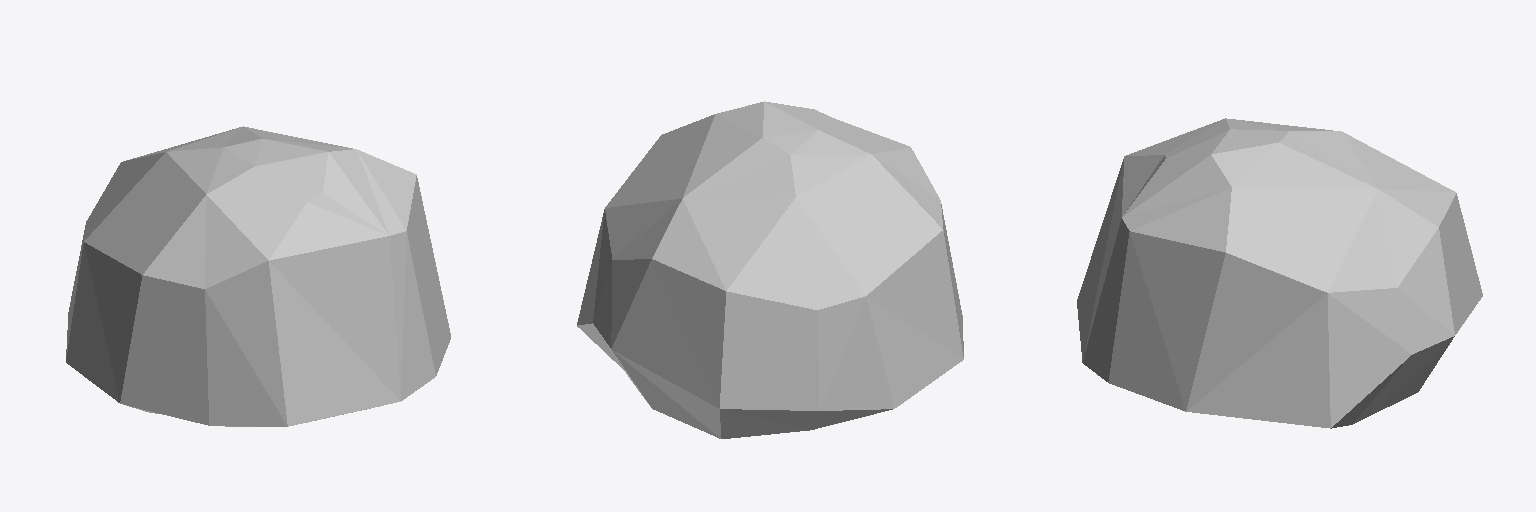
Rendered from Stone_medium_002.obj.
The picture shows the model from 3 angles: view 1: azimuth 30°, elevation 25°; view 2: azimuth 150°, elevation 25°; view 3: azimuth 270°, elevation 25°; orthographic projection.
Parts seen in each view (by area): view 1: Stone_medium_002_Icosphere; view 2: Stone_medium_002_Icosphere; view 3: Stone_medium_002_Icosphere.
Part boxes in pixels (bbox=[...]): Stone_medium_002_Icosphere: bbox=[66, 126, 450, 426]; Stone_medium_002_Icosphere: bbox=[577, 101, 963, 438]; Stone_medium_002_Icosphere: bbox=[1077, 118, 1482, 428].
Bounding box in the file's own units: 2.15 × 1.49 × 2.28.